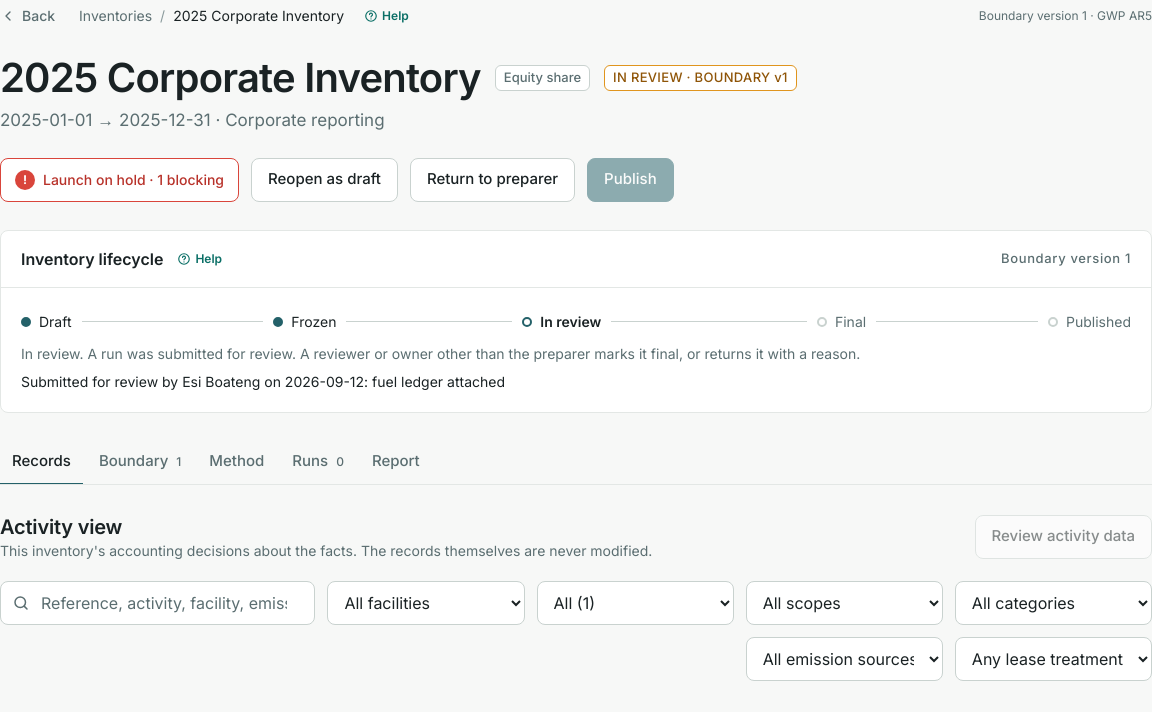
Test: an approver returns the inventory in review to its preparer with a reason (spec 05.8)
Click the button "Return to preparer" at (492, 180), box [410,158,575,202]
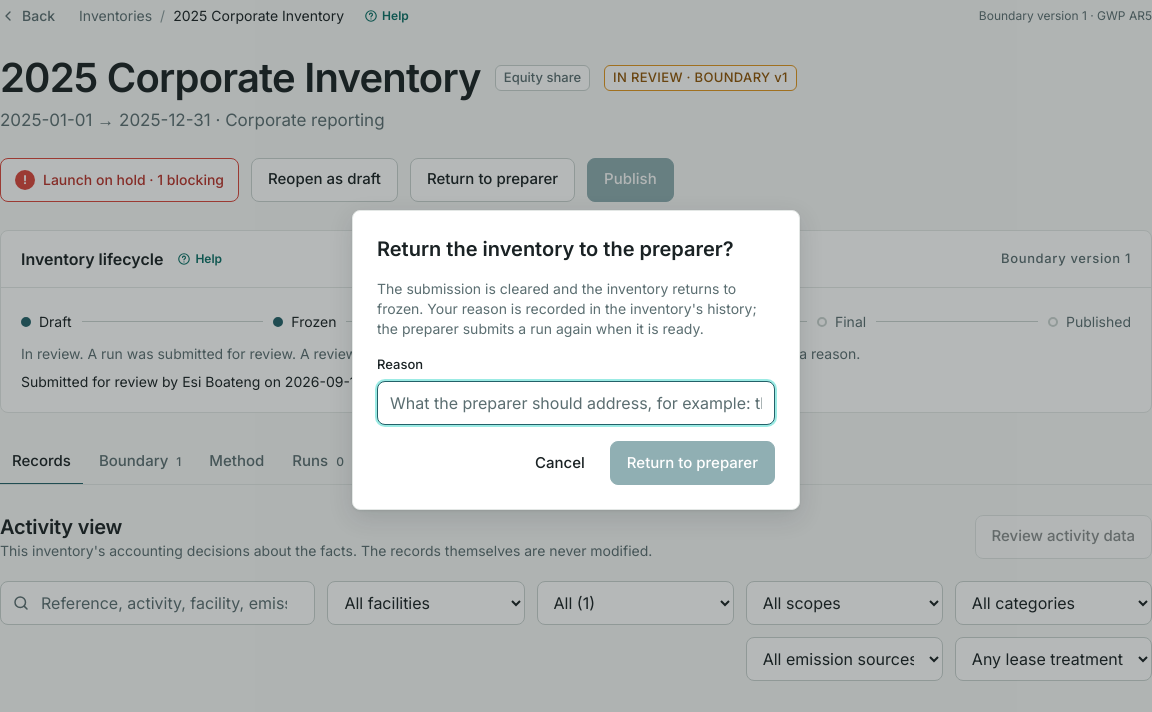
Check: the button "Return to preparer" is disabled, box [610,441,775,485]
Type "The June invoice is missing" into the field labelled "Reason" at (576, 403), box [377,381,775,425]
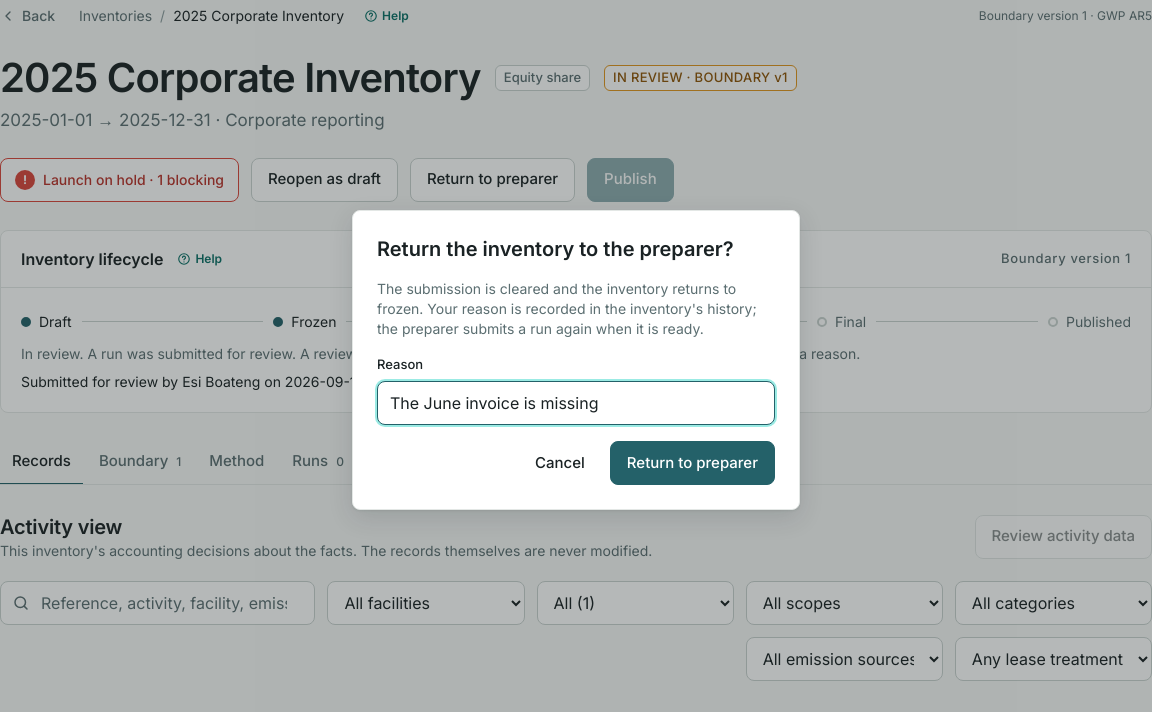
Click the button "Return to preparer" at (692, 463), box [610,441,775,485]
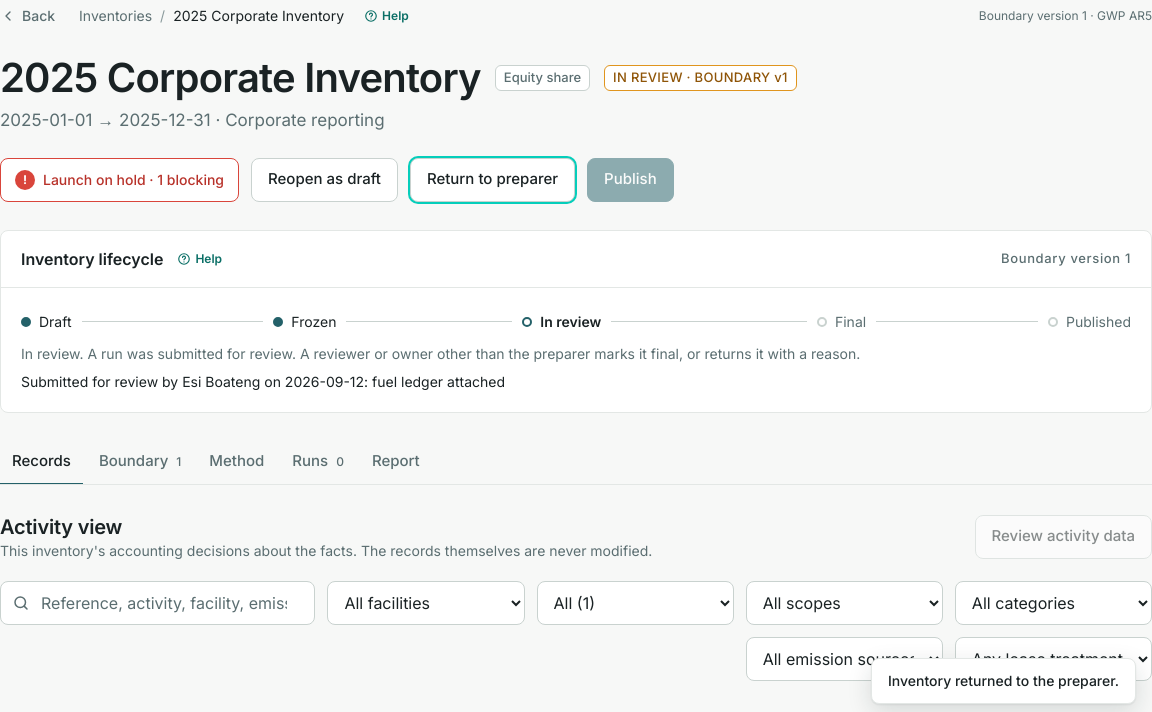
Check: the text "Inventory returned to the preparer." is shown, box [871,658,1136,704]
